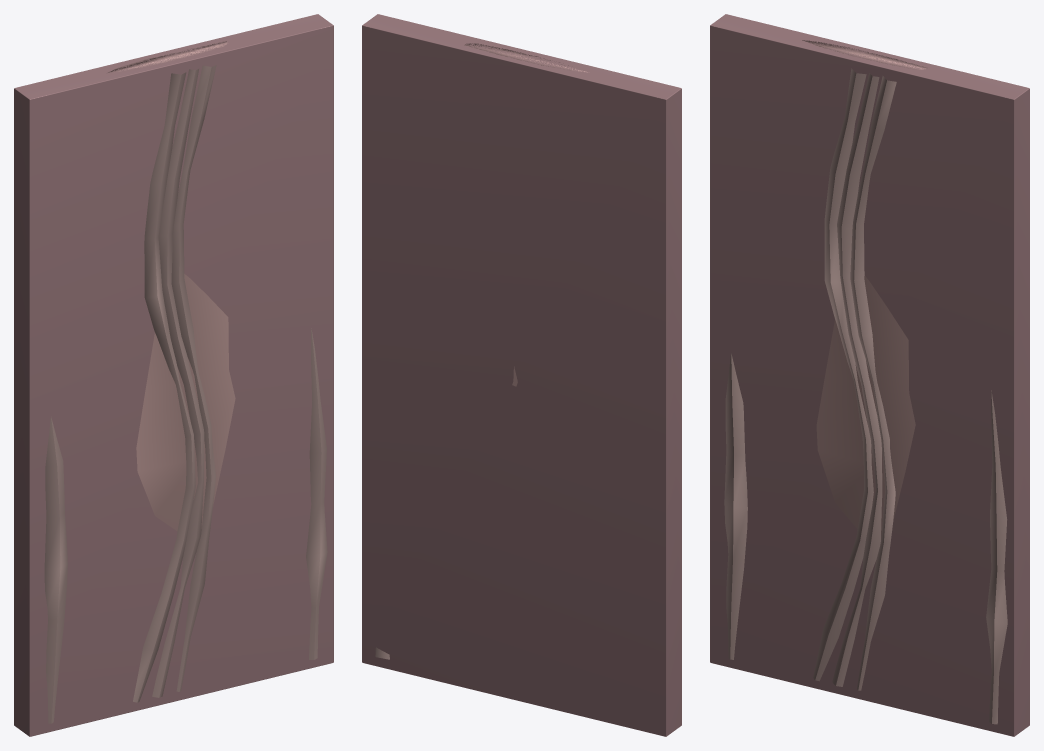
Rendered from sinew-wall-b.278350d9.glb.
The picture shows the model from 3 angles, left to right: view 1: azimuth 30°, elevation 25°; view 2: azimuth 150°, elevation 25°; view 3: azimuth 330°, elevation 25°; orthographic projection.
Visible parts, largest first — view 1: body; view 2: body; view 3: body.
Boxes of the visible parts, bbox=[...] form: body: bbox=[14, 14, 333, 736]; body: bbox=[362, 14, 681, 736]; body: bbox=[710, 14, 1029, 736].
Size of what is drawn, in the model's own units: 1 by 2 by 0.1126.
